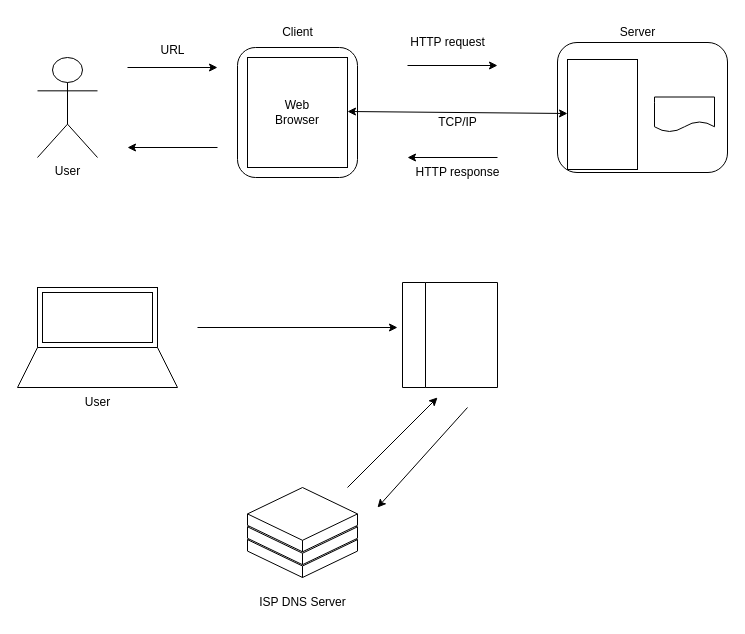
The diagram is 745 pixels wide and 634 high, and some of its shapes have lost their labels. Here are the shapes that lost their labels. From the top down, the box of each, then its label:
(566, 58, 638, 170): Web Server
(654, 96, 714, 132): Web Files
